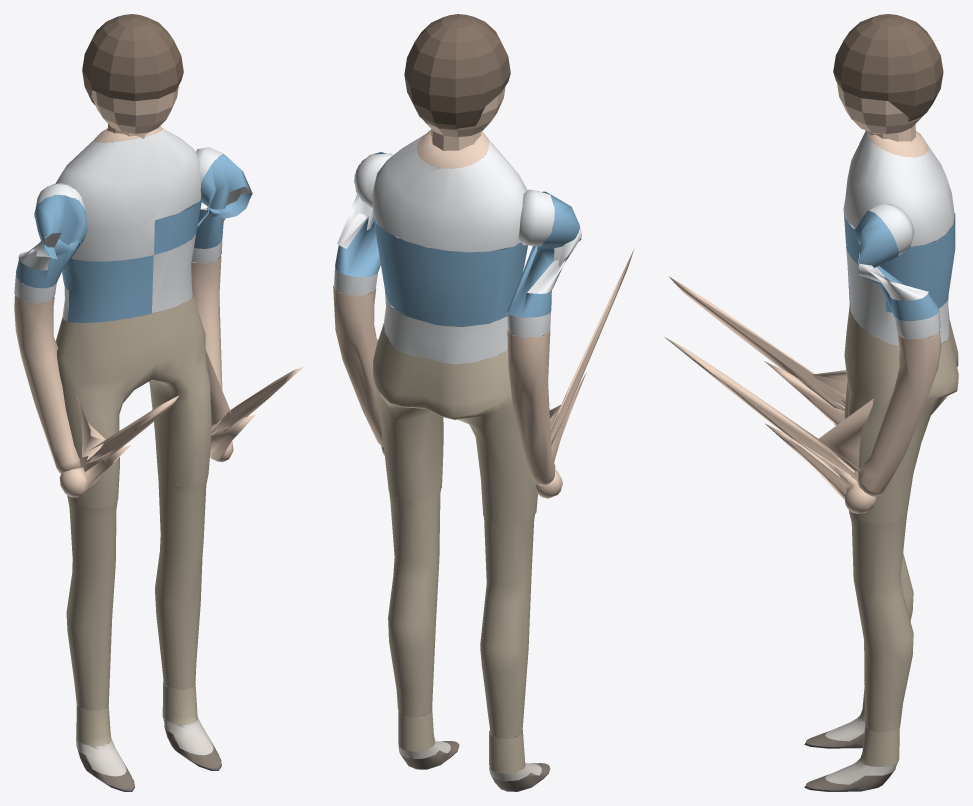
File: rambla_pedestrian_0.glb
3 views of the same model, side by side, from view 1: azimuth 30°, elevation 25°; view 2: azimuth 150°, elevation 25°; view 3: azimuth 270°, elevation 25° (orthographic). The views are drawn at different scales.
Parts seen in each view (by area): view 1: rider_torso; view 2: rider_torso; view 3: rider_torso.
Part boxes in pixels (left/top/right/bottom): rider_torso: left=14, top=14, right=304, bottom=791; rider_torso: left=333, top=14, right=634, bottom=791; rider_torso: left=664, top=14, right=958, bottom=791.
Size of the model in its own units: 0.5084 by 1.7 by 0.6109.
